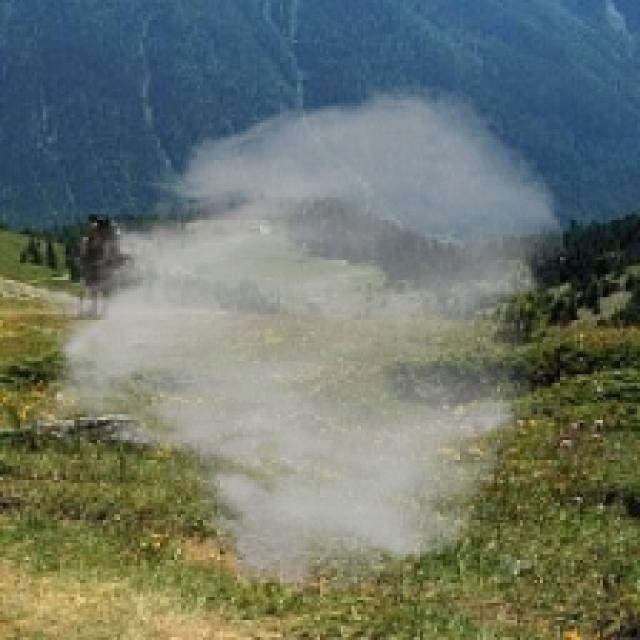smoke: (23, 80, 568, 597)
